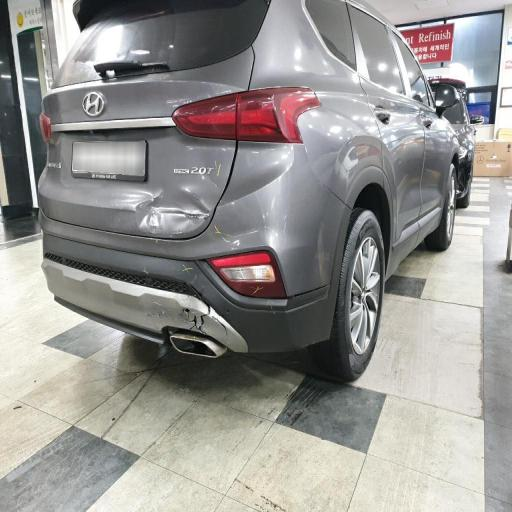dent: (128, 166, 212, 251)
scratch: (216, 143, 302, 295)
